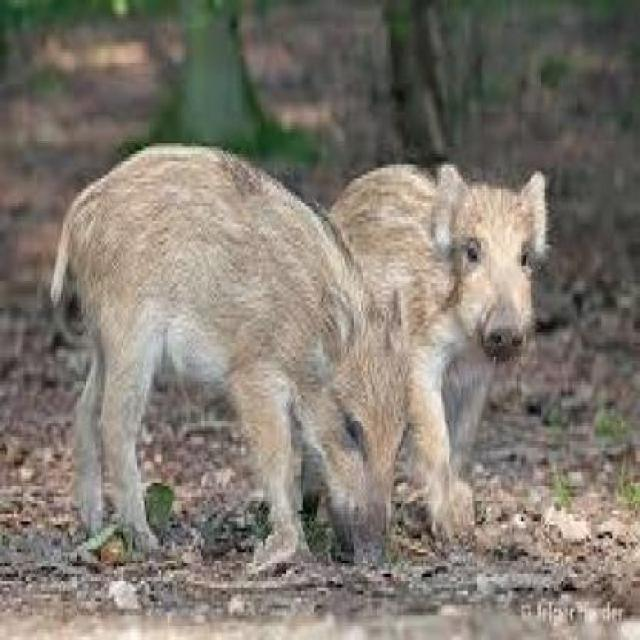wildboar: (48, 124, 422, 584), (281, 156, 556, 562)
